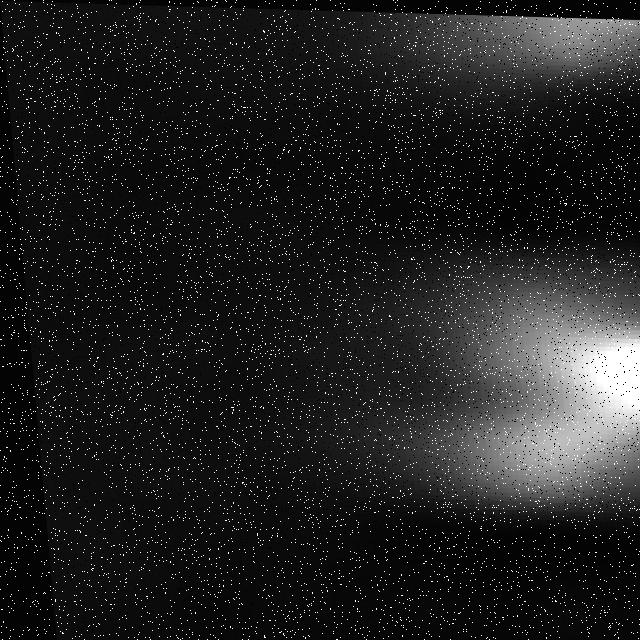person: (249, 221, 640, 551), (217, 7, 640, 90)
